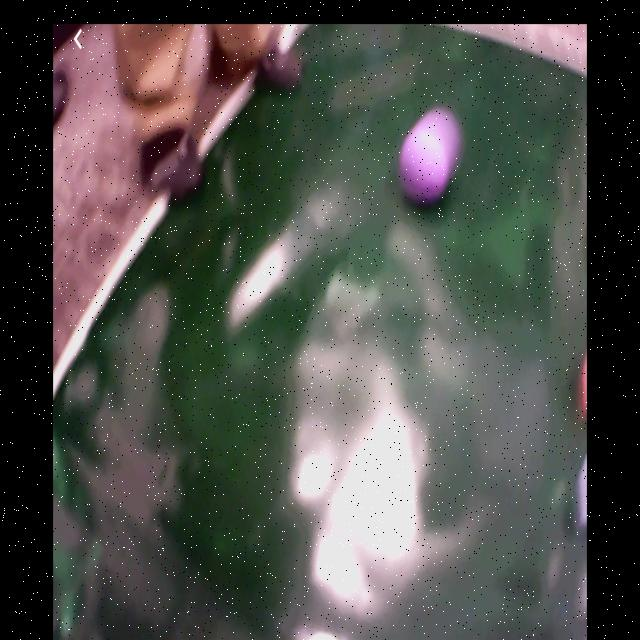ball: (401, 129, 449, 200)
